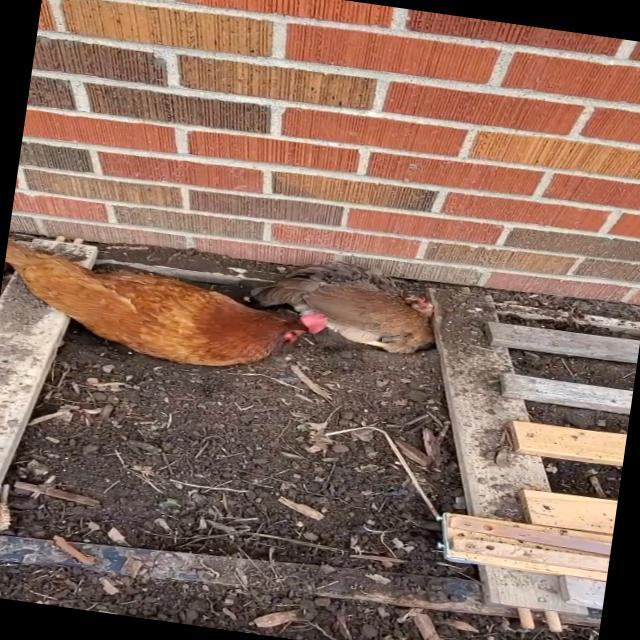stand bath: (0, 237, 305, 373), (247, 254, 449, 360)
